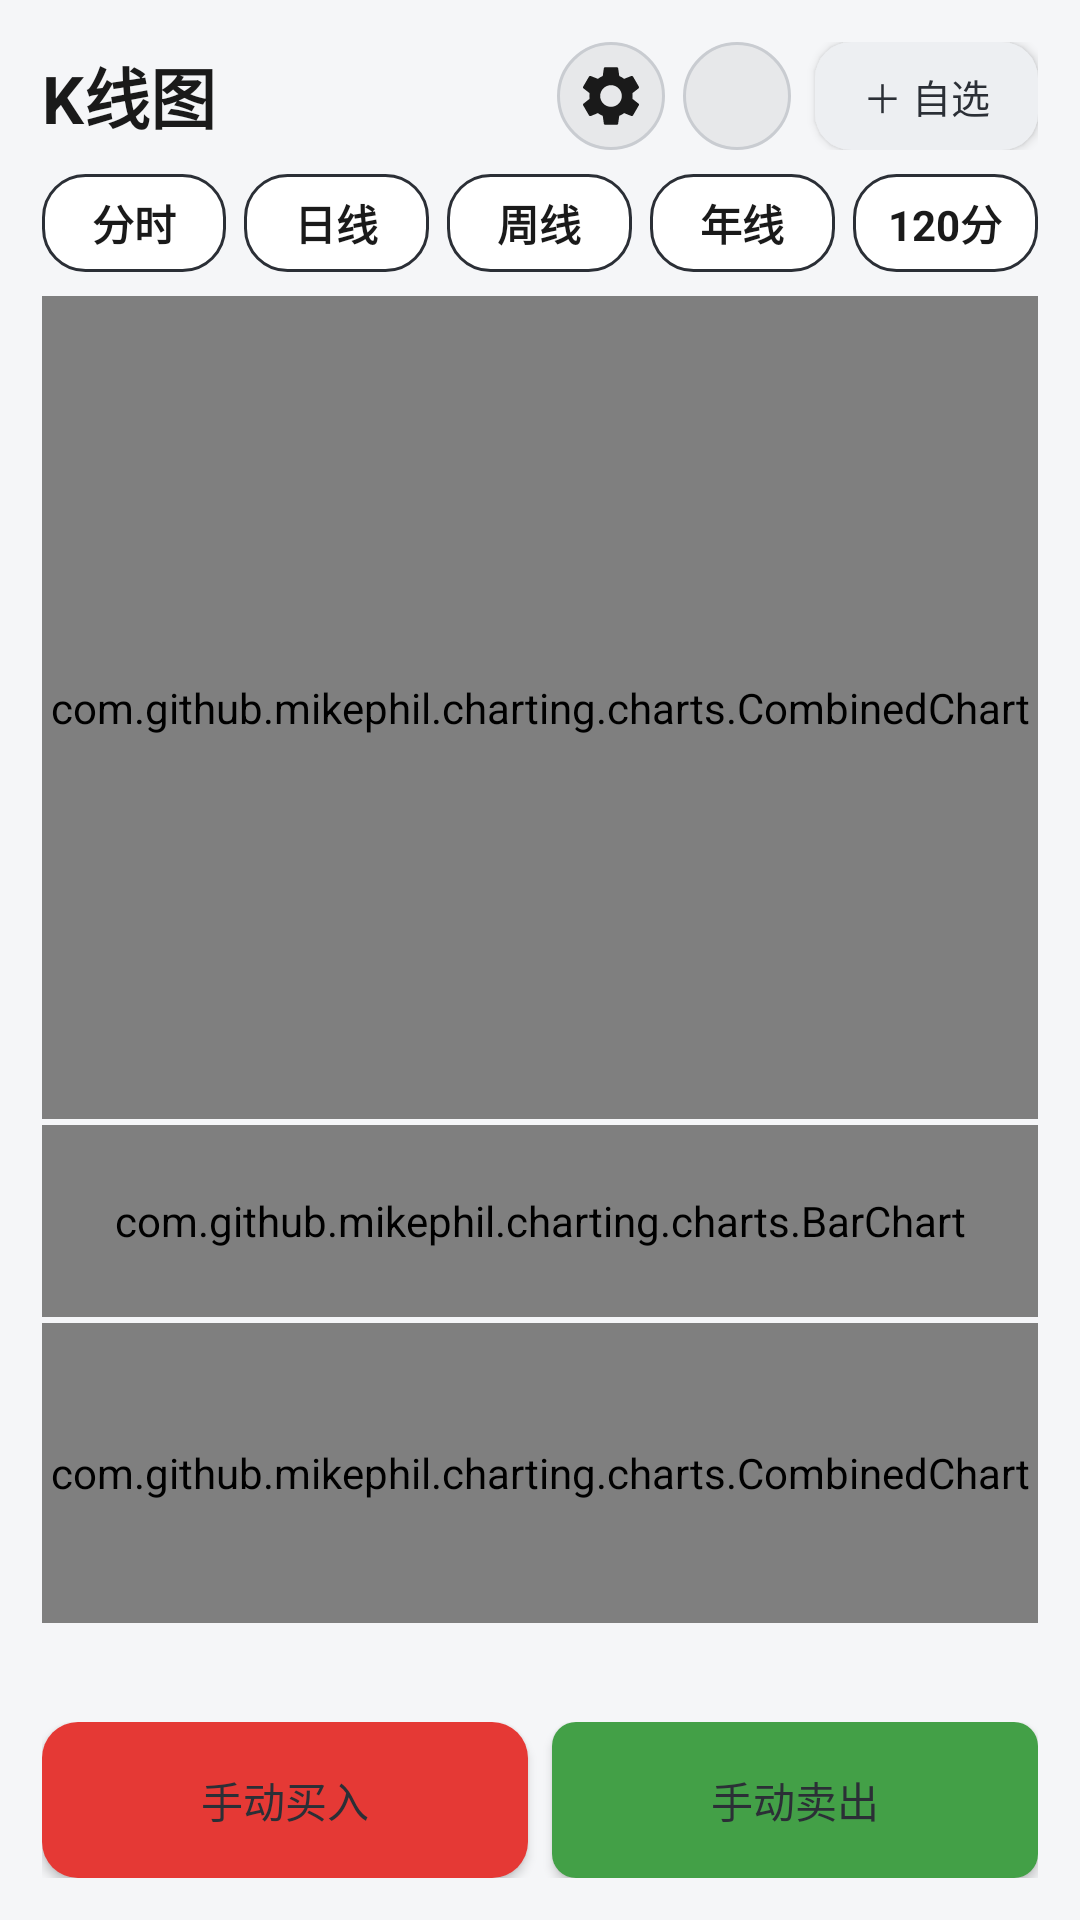

Screen size 1080 × 1920. Icon name, then its center in pixels as (x,y):
K线主图快捷设置: (611,96)
